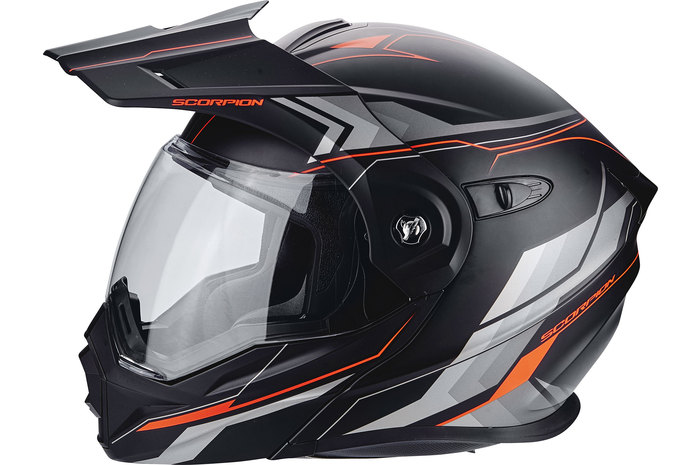with_helmet: (36, 1, 663, 464)
